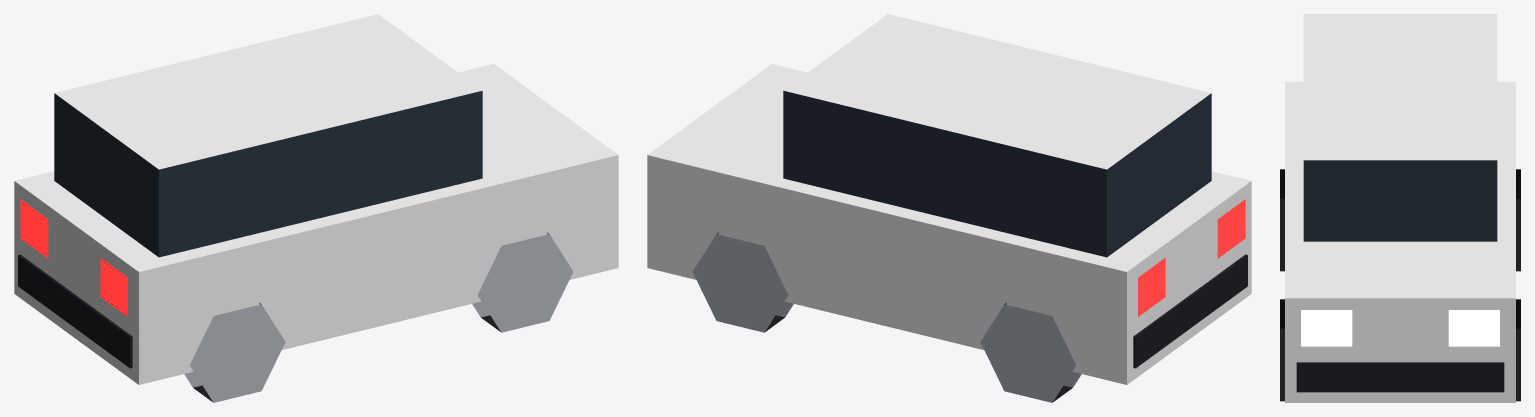
Rendered from car_suv.glb.
3 views of the same model, side by side, from view 1: azimuth 30°, elevation 25°; view 2: azimuth 150°, elevation 25°; view 3: azimuth 270°, elevation 25° (orthographic). The views are drawn at different scales.
Parts seen in each view (by area): view 1: car_suv; view 2: car_suv; view 3: car_suv.
Part boxes in pixels (left/top/right/bottom): car_suv: left=14, top=14, right=618, bottom=402; car_suv: left=647, top=14, right=1251, bottom=402; car_suv: left=1280, top=14, right=1520, bottom=402.
Size of the model in its own units: 0.404 by 0.1866 by 0.188.
